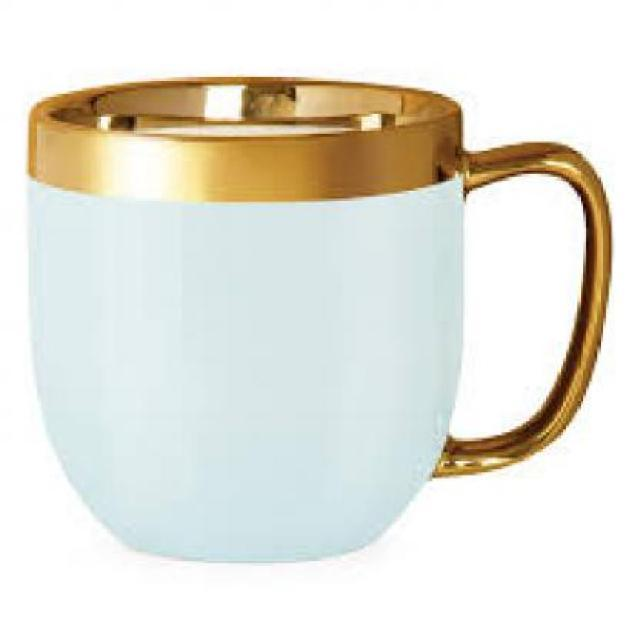cup: (23, 68, 623, 572)
